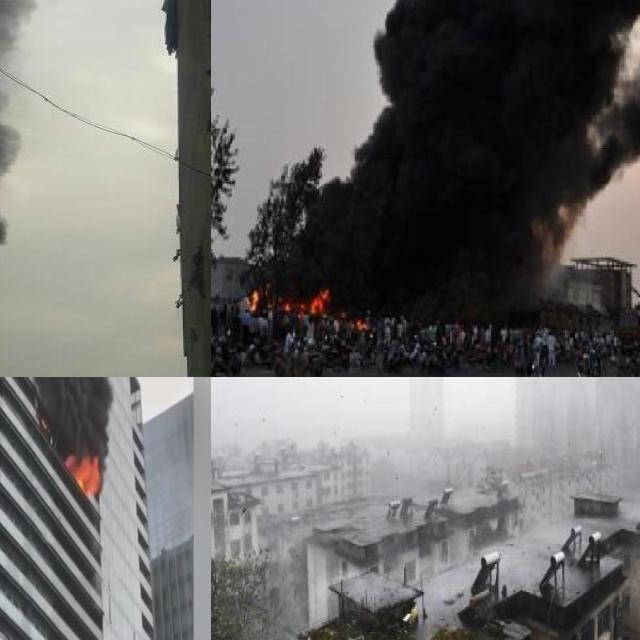fire: (68, 452, 102, 495), (307, 286, 329, 312)
smoke: (276, 0, 640, 309), (0, 0, 49, 377), (17, 377, 119, 463), (234, 377, 326, 424), (299, 377, 389, 421), (444, 377, 512, 427), (530, 377, 595, 427)
